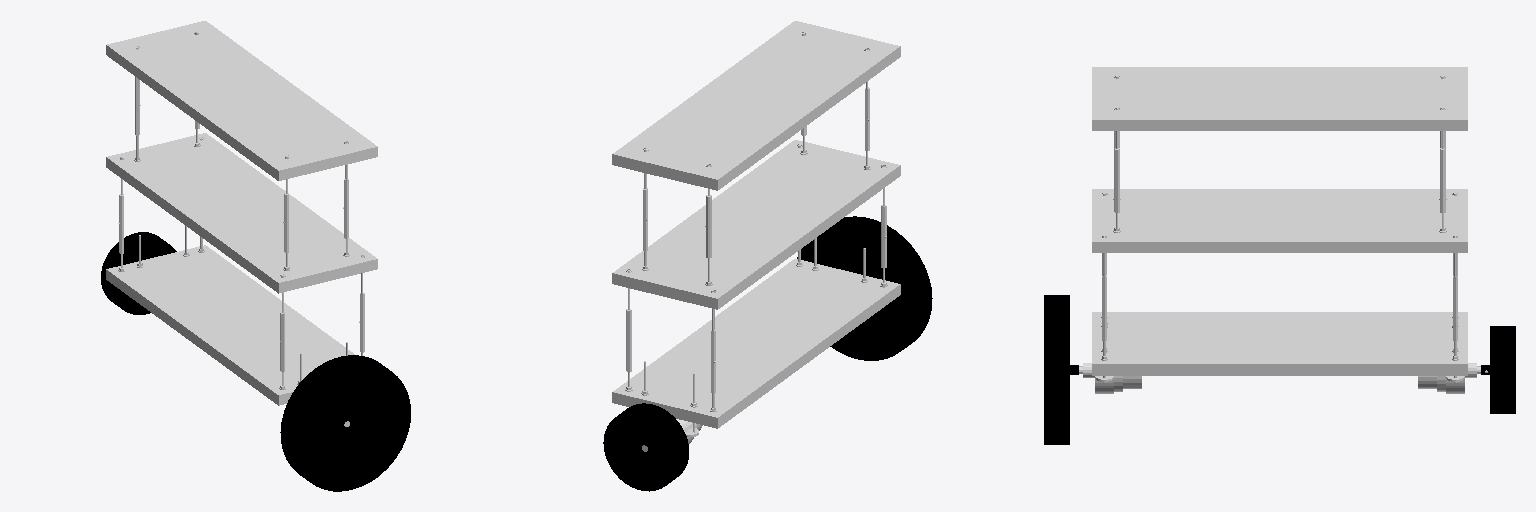
URDF robot description (selbie):
<robot
  name="selbie">
  <link
    name="selbie">
    <inertial>
      <origin
        xyz="0.14214 0.1369 0.15867"
        rpy="0 0 0" />
      <mass
        value="1.0483" />
      <inertia
        ixx="0.022239"
        ixy="4.5674E-09"
        ixz="-5.291E-05"
        iyy="0.0084815"
        iyz="4.6465E-06"
        izz="0.014724" />
    </inertial>
    <visual>
      <origin
        xyz="0 0 0"
        rpy="0 0 0" />
      <geometry>
        <mesh
          filename="package://selbie/meshes/selbie.STL" />
      </geometry>
      <material
        name="">
        <color
          rgba="0.9 0.9 0.9 0.9" />
        <texture
          filename="package://selbie/textures/polished cherry.jpg" />
      </material>
    </visual>
    <collision>
      <origin
        xyz="0 0 0"
        rpy="0 0 0" />
      <geometry>
        <mesh
          filename="package://selbie/meshes/selbie.STL" />
      </geometry>
    </collision>
  </link>
  <link
    name="selbie_rightWheel">
    <inertial>
      <origin
        xyz="8.582E-12 4.0312E-12 -0.017408"
        rpy="0 0 0" />
      <mass
        value="0.043417" />
      <inertia
        ixx="1.8225E-05"
        ixy="4.3753E-15"
        ixz="5.3517E-15"
        iyy="1.8225E-05"
        iyz="2.3697E-15"
        izz="3.4618E-05" />
    </inertial>
    <visual>
      <origin
        xyz="0 0 0"
        rpy="0 0 0" />
      <geometry>
        <mesh
          filename="package://selbie/meshes/selbie_rightWheel.STL" />
      </geometry>
      <material
        name="">
        <color
          rgba="0 0 0 1" />
        <texture
          filename="package://selbie/textures/marble4.jpg" />
      </material>
    </visual>
    <collision>
      <origin
        xyz="0 0 0"
        rpy="0 0 0" />
      <geometry>
        <mesh
          filename="package://selbie/meshes/selbie_rightWheel.STL" />
      </geometry>
    </collision>
  </link>
  <joint
    name="selbie_rj"
    type="continuous">
    <origin
      xyz="0.14286 -0.023601 0.097857"
      rpy="1.5708 1.2131 3.1416" />
    <parent
      link="selbie" />
    <child
      link="selbie_rightWheel" />
    <axis
      xyz="0 0 -1" />
  </joint>
  <link
    name="selbie_leftWheel">
    <inertial>
      <origin
        xyz="8.582E-12 4.0312E-12 -0.017408"
        rpy="0 0 0" />
      <mass
        value="0.043417" />
      <inertia
        ixx="1.8225E-05"
        ixy="4.3753E-15"
        ixz="5.3517E-15"
        iyy="1.8225E-05"
        iyz="2.3697E-15"
        izz="3.4618E-05" />
    </inertial>
    <visual>
      <origin
        xyz="0 0 0"
        rpy="0 0 0" />
      <geometry>
        <mesh
          filename="package://selbie/meshes/selbie_leftWheel.STL" />
      </geometry>
      <material
        name="">
        <color
          rgba="0 0 0 1" />
        <texture
          filename="package://selbie/textures/marble4.jpg" />
      </material>
    </visual>
    <collision>
      <origin
        xyz="0 0 0"
        rpy="0 0 0" />
      <geometry>
        <mesh
          filename="package://selbie/meshes/selbie_leftWheel.STL" />
      </geometry>
    </collision>
  </link>
  <joint
    name="selbie_lj"
    type="continuous">
    <origin
      xyz="0.14286 0.2974 0.097857"
      rpy="1.5708 0 0" />
    <parent
      link="selbie" />
    <child
      link="selbie_leftWheel" />
    <axis
      xyz="0 0 1" />
  </joint>
</robot>

--- Facts derived from the render (not from the file) ---
Views: 3 orthographic renders of the robot side by side, from view 1: azimuth 30°, elevation 25°; view 2: azimuth 150°, elevation 25°; view 3: azimuth 270°, elevation 25°.
Model selbie with 3 links and 2 joints (2 continuous), rooted at selbie, posed every joint at zero.
Visible links, largest first — view 1: selbie, selbie_rightWheel, selbie_leftWheel; view 2: selbie, selbie_rightWheel, selbie_leftWheel; view 3: selbie, selbie_rightWheel, selbie_leftWheel.
Link boxes in pixels (x1,y1,x2,y2): selbie: [106, 21, 377, 426]; selbie_rightWheel: [280, 355, 410, 491]; selbie_leftWheel: [101, 232, 176, 314]; selbie: [612, 21, 900, 451]; selbie_rightWheel: [797, 216, 932, 360]; selbie_leftWheel: [603, 403, 688, 491]; selbie: [1079, 67, 1487, 393]; selbie_rightWheel: [1044, 295, 1078, 444]; selbie_leftWheel: [1481, 326, 1515, 413].
Size in the robot's own frame: 0.1199 by 0.376 by 0.3046 metres.
3 mesh visuals loaded from 3 distinct referenced files (3 binary STL).
